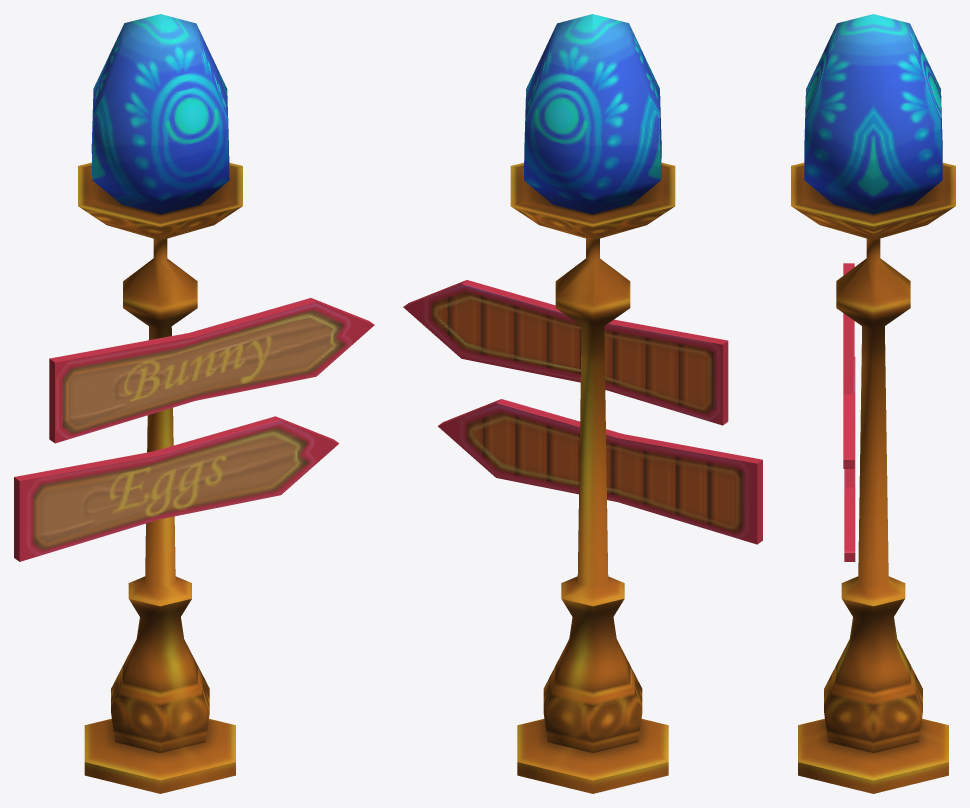
The model's file is Board_Guide.FBX.
3 renders of one model, left to right at view 1: azimuth 30°, elevation 25°; view 2: azimuth 150°, elevation 25°; view 3: azimuth 270°, elevation 25°, orthographic.
Visible parts, largest first — view 1: Board_Guide; view 2: Board_Guide; view 3: Board_Guide.
Boxes of the visible parts, x1,y1,x2,y2 form: Board_Guide: [14, 14, 374, 793]; Board_Guide: [403, 14, 762, 793]; Board_Guide: [791, 14, 955, 793].
Bounding box in the file's own units: 68.46 × 137 × 27.57.
